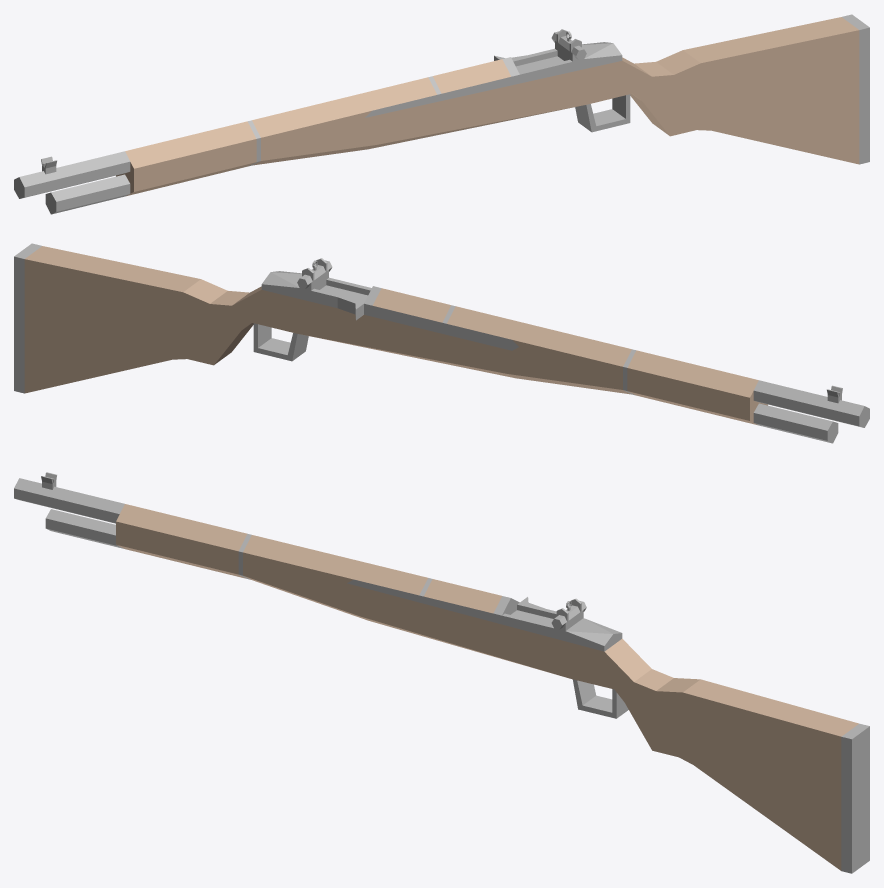
Rendered from Garand.fbx.
3 renders of one model, top to bottom at view 1: azimuth 30°, elevation 25°; view 2: azimuth 150°, elevation 25°; view 3: azimuth 330°, elevation 25°, orthographic.
Visible parts, largest first — view 1: Garand; view 2: Garand; view 3: Garand.
Boxes of the visible parts, left/top/right/bottom form: Garand: left=14, top=14, right=869, bottom=214; Garand: left=14, top=243, right=869, bottom=443; Garand: left=14, top=472, right=869, bottom=873.
Bounding box in the file's own units: 0.796 × 0.1759 × 0.0483.
